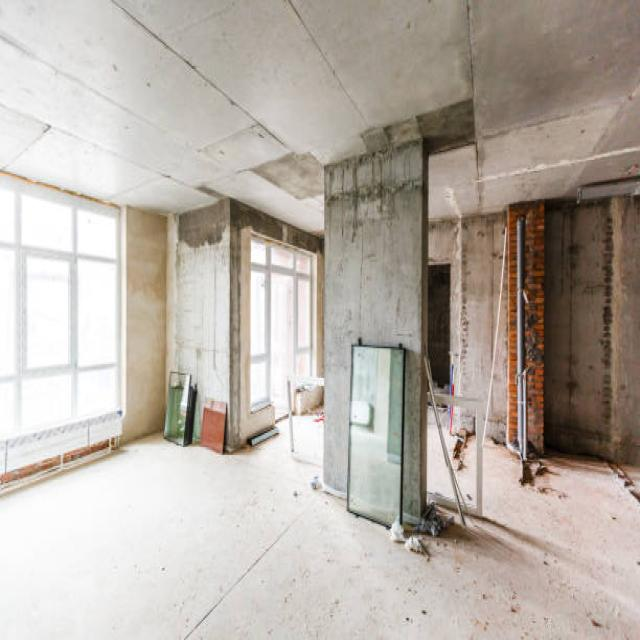floor: (0, 397, 640, 640), (436, 404, 476, 508), (427, 402, 457, 502)
wall: (323, 138, 423, 525), (544, 200, 640, 467), (230, 198, 324, 452), (428, 213, 507, 445), (167, 198, 231, 452), (122, 206, 168, 444), (507, 200, 545, 457), (422, 138, 429, 358)
